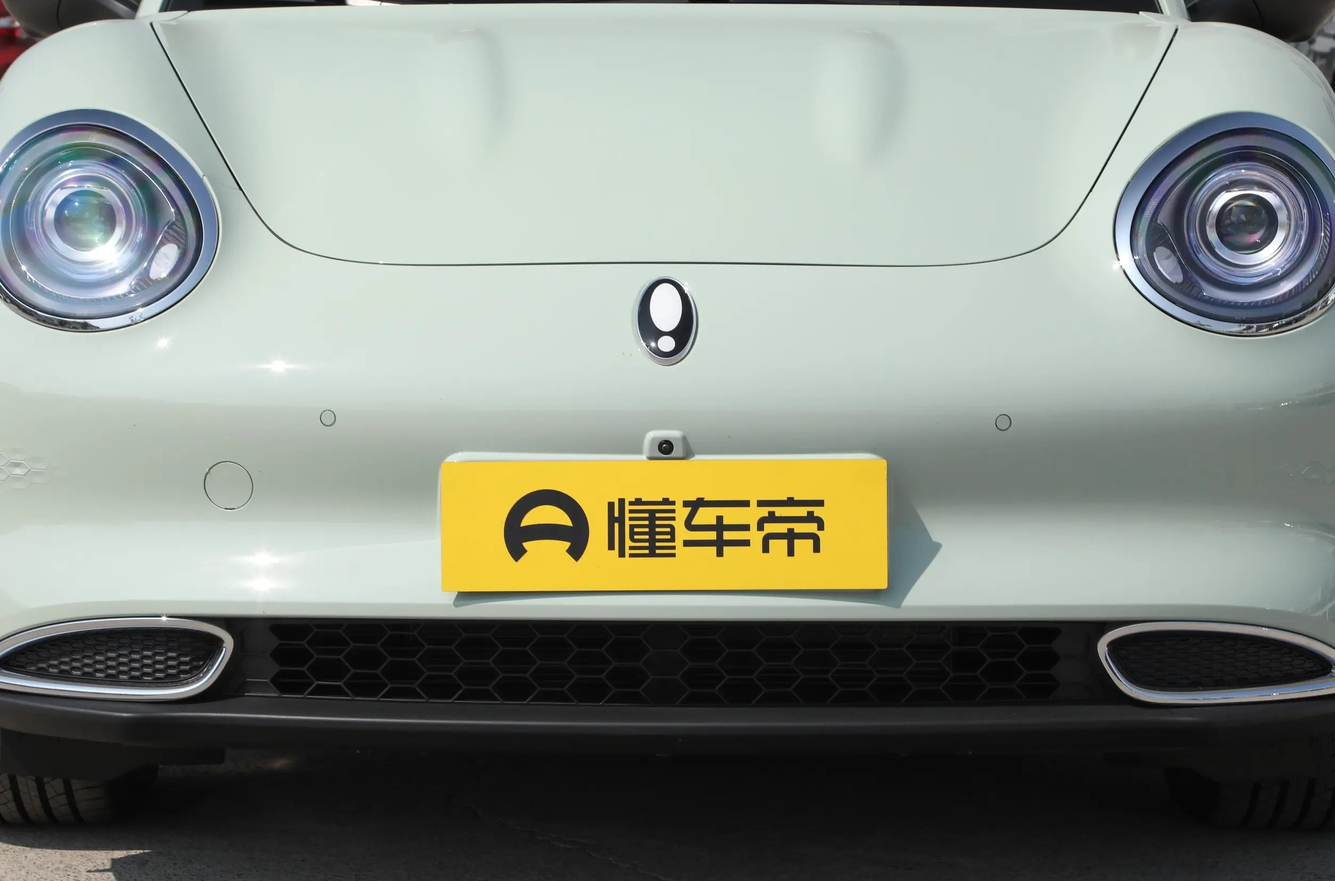ORA: (637, 277, 696, 364)
